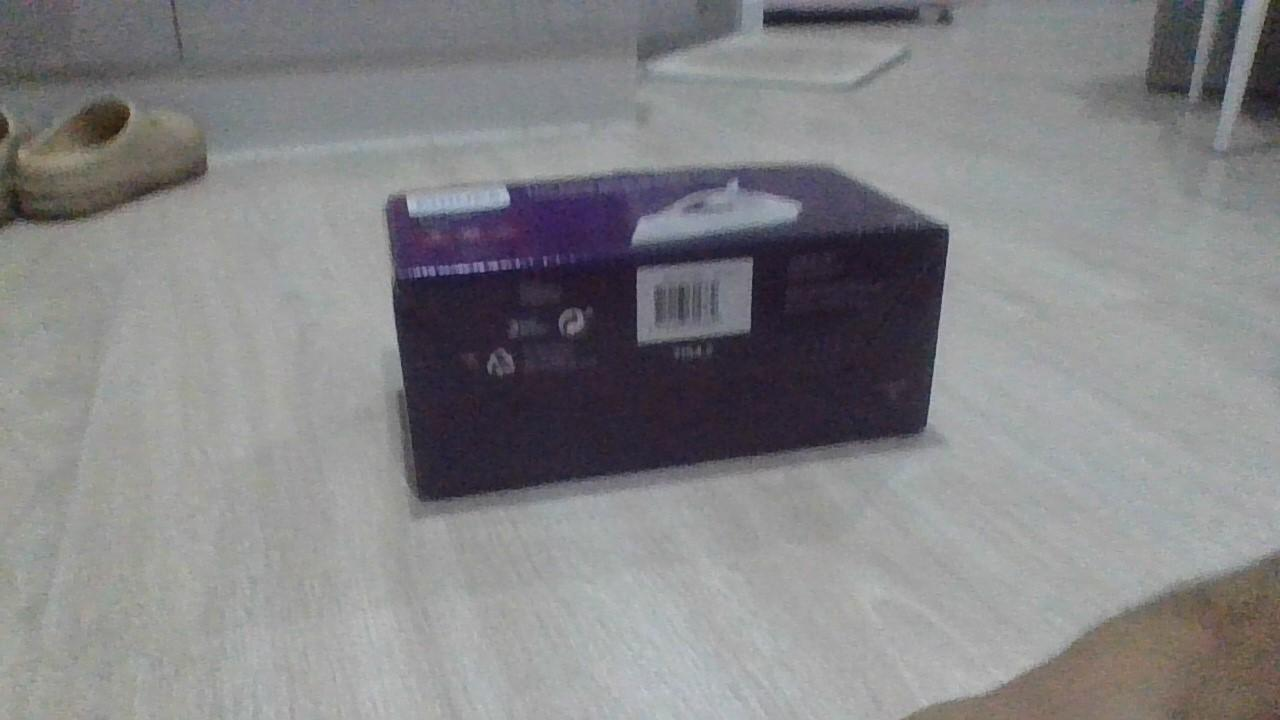IRON: (378, 157, 953, 506)
